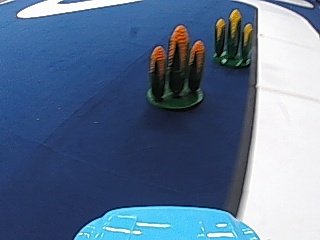corn: (145, 23, 207, 111), (210, 8, 253, 69)
